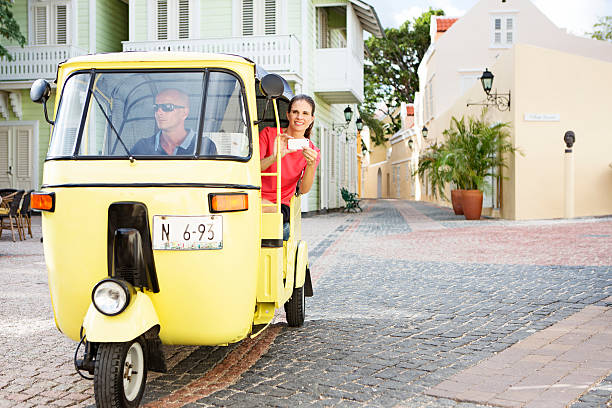threewheel: (29, 55, 312, 408)
